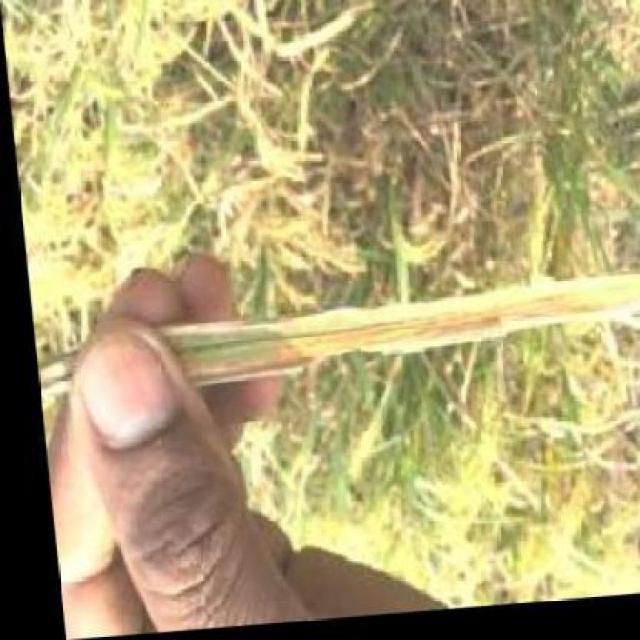Brown_Spot: (157, 242, 640, 410)
